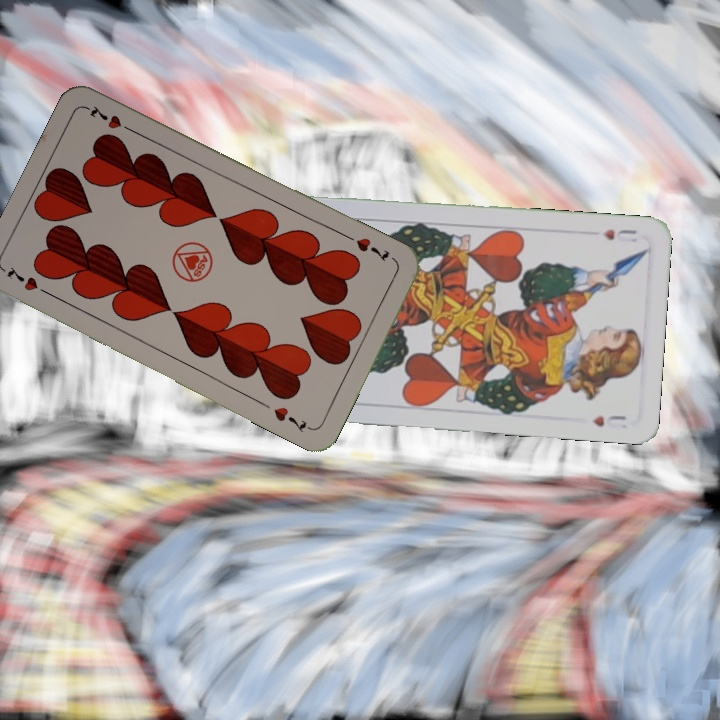H7: (3, 262, 55, 299), (351, 233, 392, 264)
HU: (598, 225, 639, 243)
